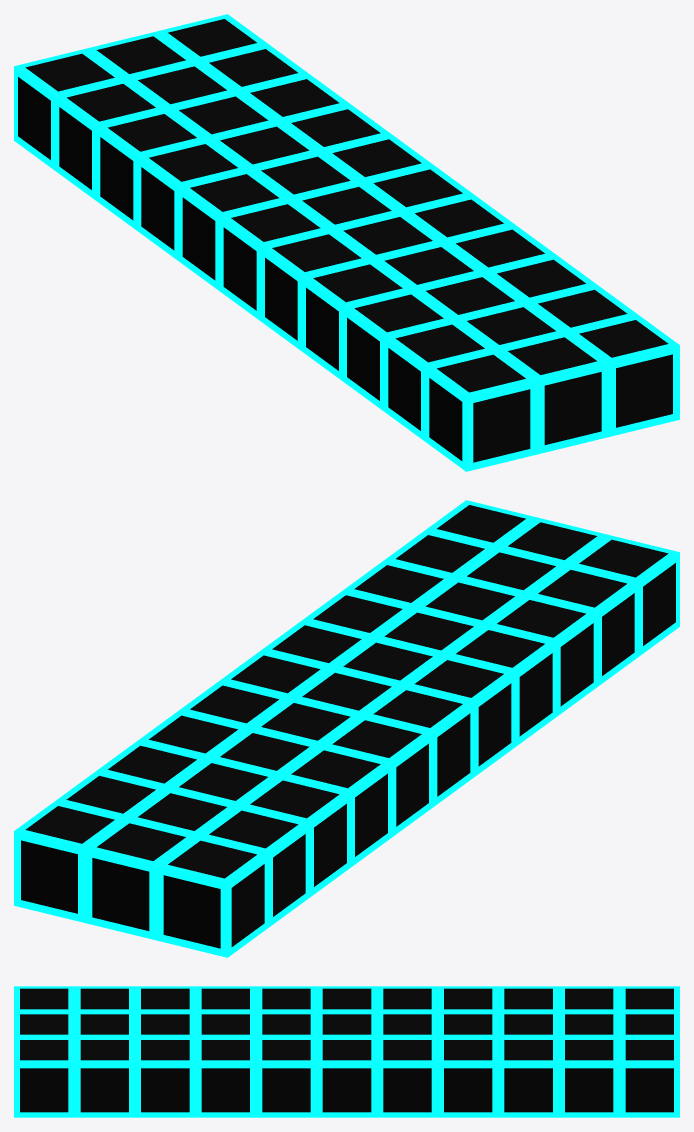
The model's file is roof.fbx.
The picture shows the model from 3 angles, top to bottom: view 1: azimuth 30°, elevation 25°; view 2: azimuth 150°, elevation 25°; view 3: azimuth 270°, elevation 25°; orthographic projection. The views are drawn at different scales.
Visible parts, largest first — view 1: Cube; view 2: Cube; view 3: Cube.
Boxes of the visible parts, x1,y1,x2,y2 form: Cube: [14, 14, 679, 471]; Cube: [14, 500, 679, 957]; Cube: [14, 986, 679, 1117].
Size of the model in its own units: 600 by 200 by 2200.
